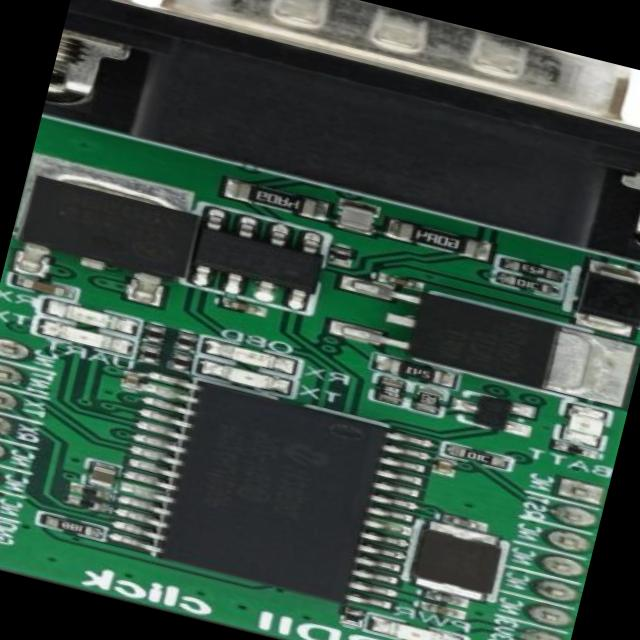IC: (109, 368, 422, 611), (327, 272, 625, 406), (12, 158, 200, 308), (188, 208, 326, 306)
LED: (47, 321, 134, 356), (56, 302, 132, 334), (211, 359, 279, 391), (212, 340, 284, 370), (378, 617, 455, 640), (562, 406, 606, 446)
capacitor: (5, 272, 73, 302), (334, 200, 378, 236), (375, 273, 428, 292), (85, 462, 116, 488), (221, 300, 259, 317), (426, 601, 458, 620), (426, 591, 462, 607), (445, 514, 479, 530), (120, 370, 140, 390), (432, 457, 453, 476)
connector: (47, 0, 640, 270)
diode: (567, 259, 640, 337)
resistor: (384, 217, 481, 261), (222, 178, 325, 218), (494, 270, 554, 298), (382, 358, 446, 384), (450, 445, 510, 471), (499, 257, 562, 281), (408, 384, 446, 414), (44, 516, 90, 538), (372, 376, 406, 405), (552, 440, 596, 460), (68, 493, 108, 514), (68, 482, 111, 500), (138, 321, 168, 343), (327, 244, 353, 267), (173, 331, 200, 352), (167, 350, 192, 369), (139, 343, 162, 362)
transistor: (462, 389, 528, 436)
